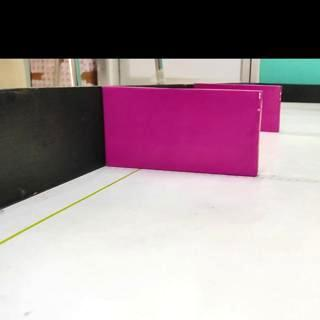xparking: (105, 89, 259, 180)
